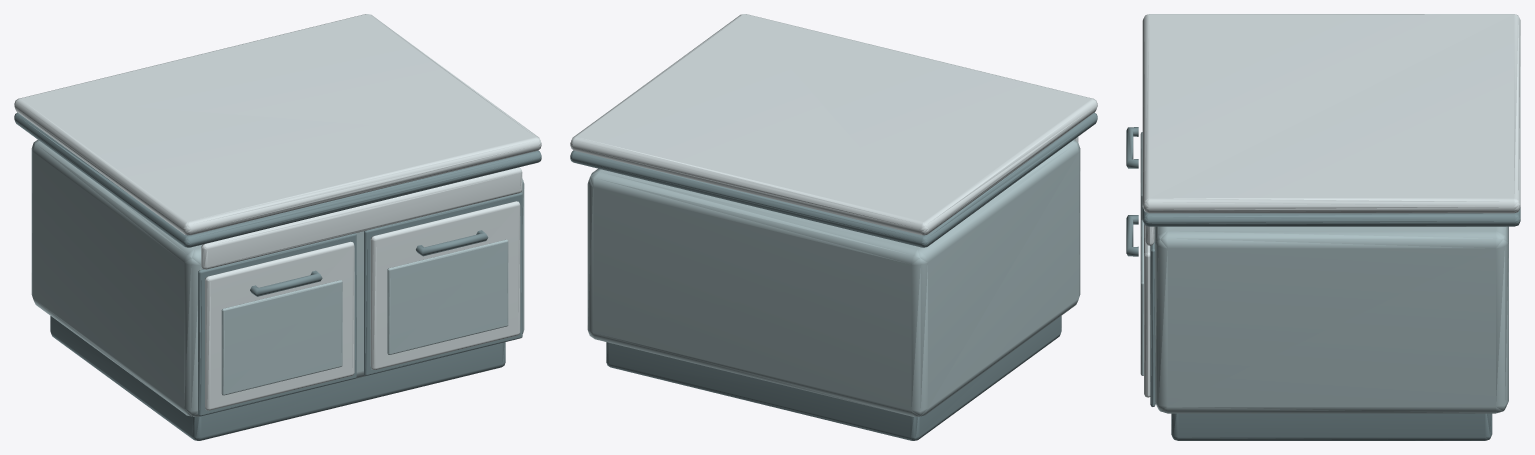
The model's file is CounterSteel.fbx.
3 views of the same model, side by side, from view 1: azimuth 30°, elevation 25°; view 2: azimuth 150°, elevation 25°; view 3: azimuth 270°, elevation 25° (orthographic). The views are drawn at different scales.
Parts seen in each view (by area): view 1: CounterSteel.002; view 2: CounterSteel.002; view 3: CounterSteel.002.
Boxes of the visible parts, box(x1,y1,x2,y2) form: CounterSteel.002: box(14, 14, 541, 440); CounterSteel.002: box(570, 14, 1097, 440); CounterSteel.002: box(1126, 14, 1520, 440).
Size of the model in its own units: 1.9 by 1.19 by 1.67.
